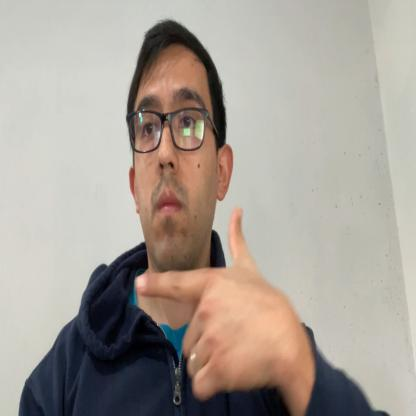G: (135, 204, 284, 398)
